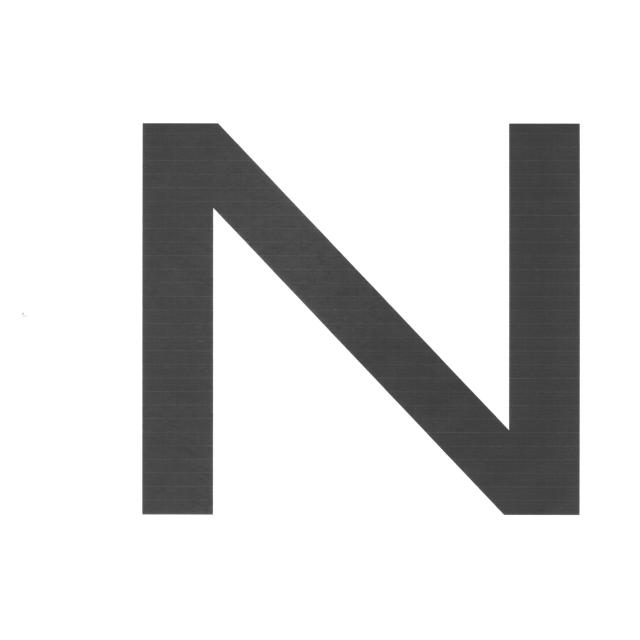n: (101, 93, 626, 539)
